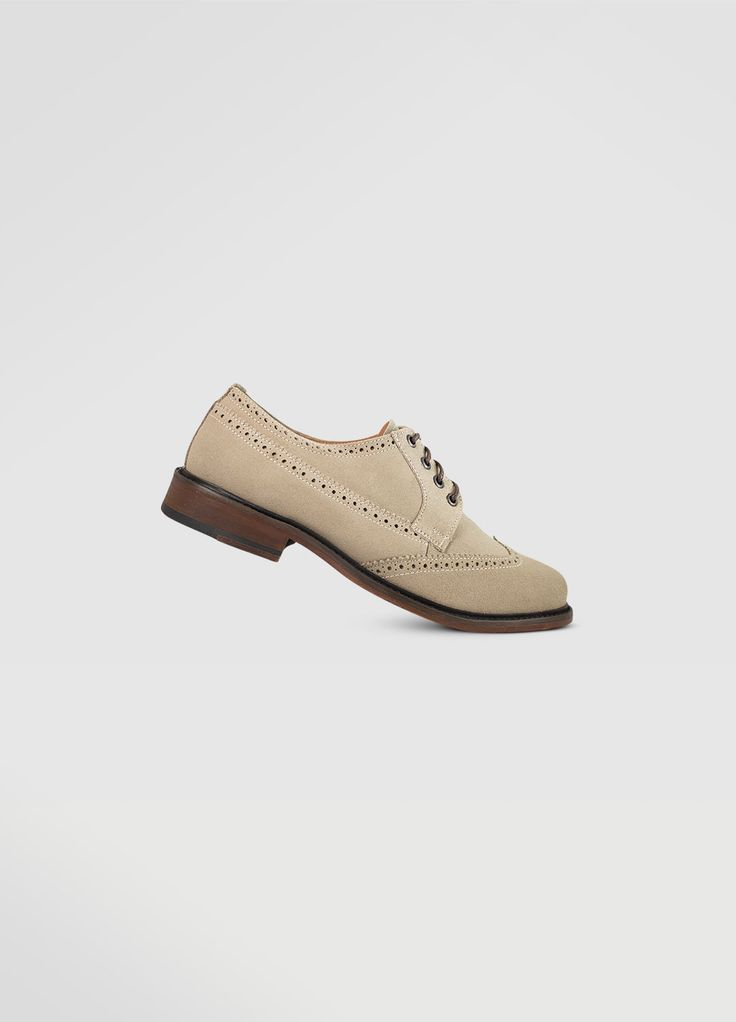gamuza: (182, 383, 568, 611)
